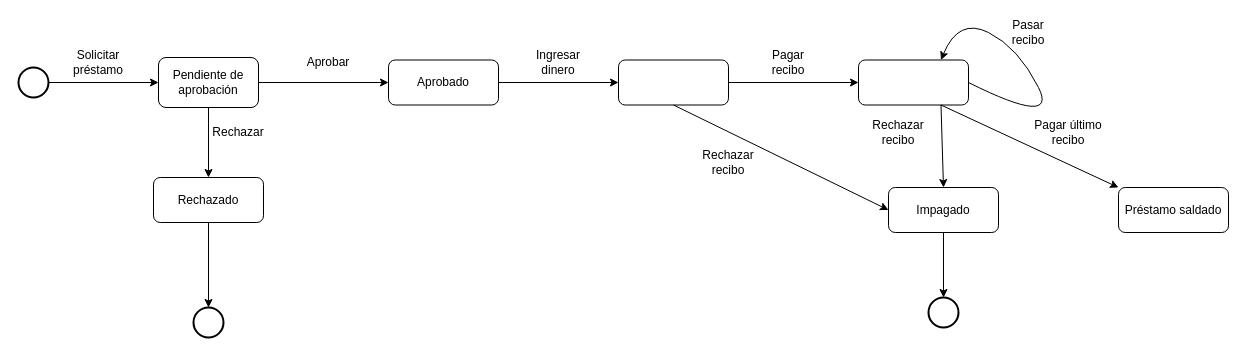
The diagram is 1246 pixels wide and 355 high, and some of its shapes have lost their labels. The shapes that lost their labels are listed below. From the top down, each one's centre as x and y in pixels, then its label:
At point (673, 82): "Recibido en cuenta".
At point (913, 82): "En proceso de devolucion".
